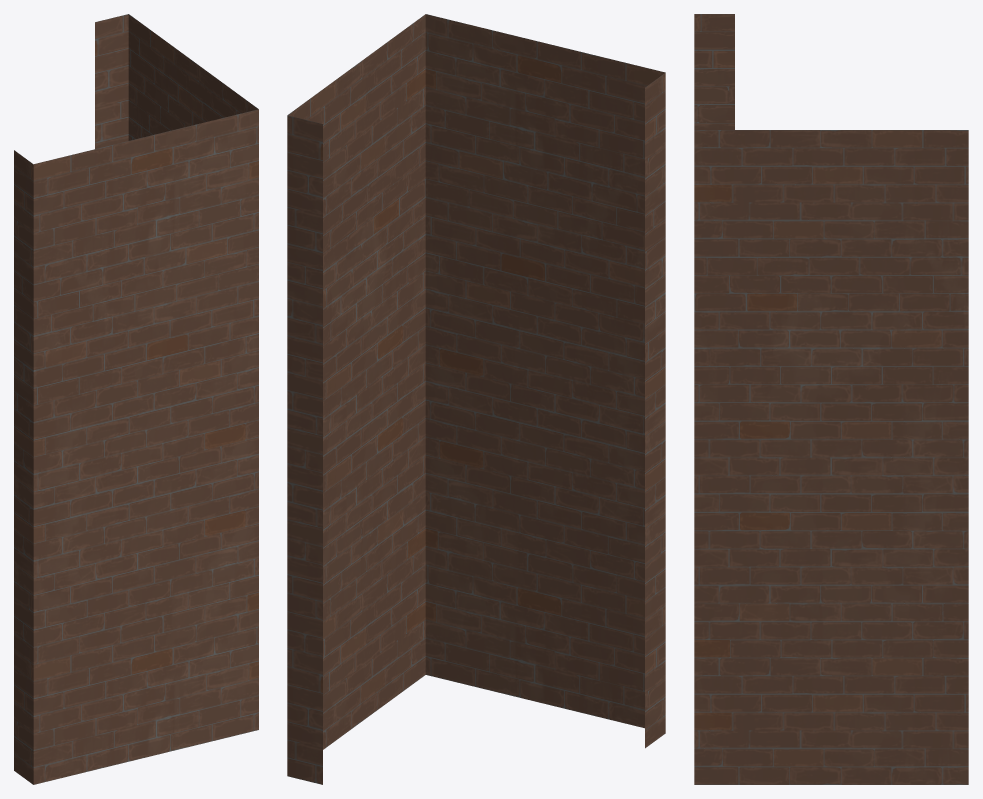
Rendered from Brick_CornerColumn_Center.gltf.
The picture shows the model from 3 angles, left to right: view 1: azimuth 30°, elevation 25°; view 2: azimuth 150°, elevation 25°; view 3: azimuth 270°, elevation 25°; orthographic projection. The views are drawn at different scales.
Parts seen in each view (by area): view 1: Brick_CornerColumn_Center; view 2: Brick_CornerColumn_Center; view 3: Brick_CornerColumn_Center.
Part boxes in pixels (left/top/right/bottom): Brick_CornerColumn_Center: left=14, top=14, right=258, bottom=784; Brick_CornerColumn_Center: left=287, top=14, right=665, bottom=784; Brick_CornerColumn_Center: left=694, top=14, right=968, bottom=784.
Size of the model in its own units: 1.14 by 3 by 1.14.
Materials: 1 (1 with a texture image).
